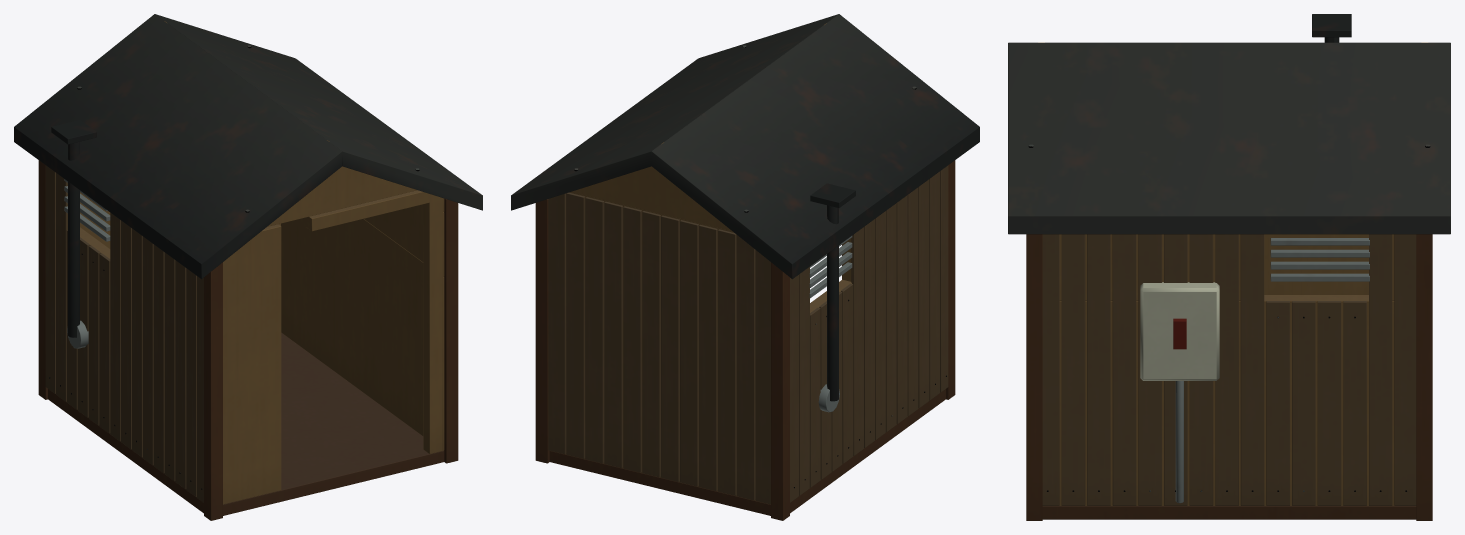
The model's file is level_camp_dock_shed_authored.glb.
The picture shows the model from 3 angles, left to right: view 1: azimuth 30°, elevation 25°; view 2: azimuth 150°, elevation 25°; view 3: azimuth 270°, elevation 25°; orthographic projection. The views are drawn at different scales.
Parts seen in each view (by area): view 1: level_camp_dock_shed_authored; view 2: level_camp_dock_shed_authored; view 3: level_camp_dock_shed_authored.
Boxes of the visible parts, <box> form: level_camp_dock_shed_authored: <box>14,14,482,520</box>; level_camp_dock_shed_authored: <box>511,14,979,520</box>; level_camp_dock_shed_authored: <box>1008,14,1450,520</box>.
Size of the model in its own units: 2.36 by 2.72 by 2.68.
1 material, 1 textured.
